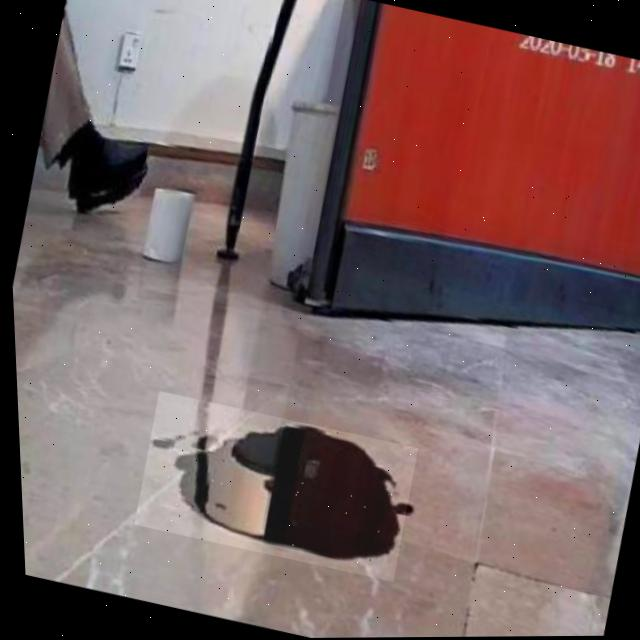spillage: (145, 421, 400, 561)
